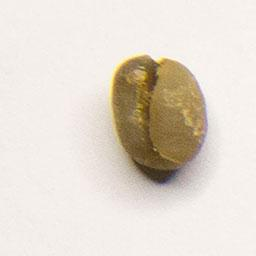peaberry: (108, 50, 210, 177)
